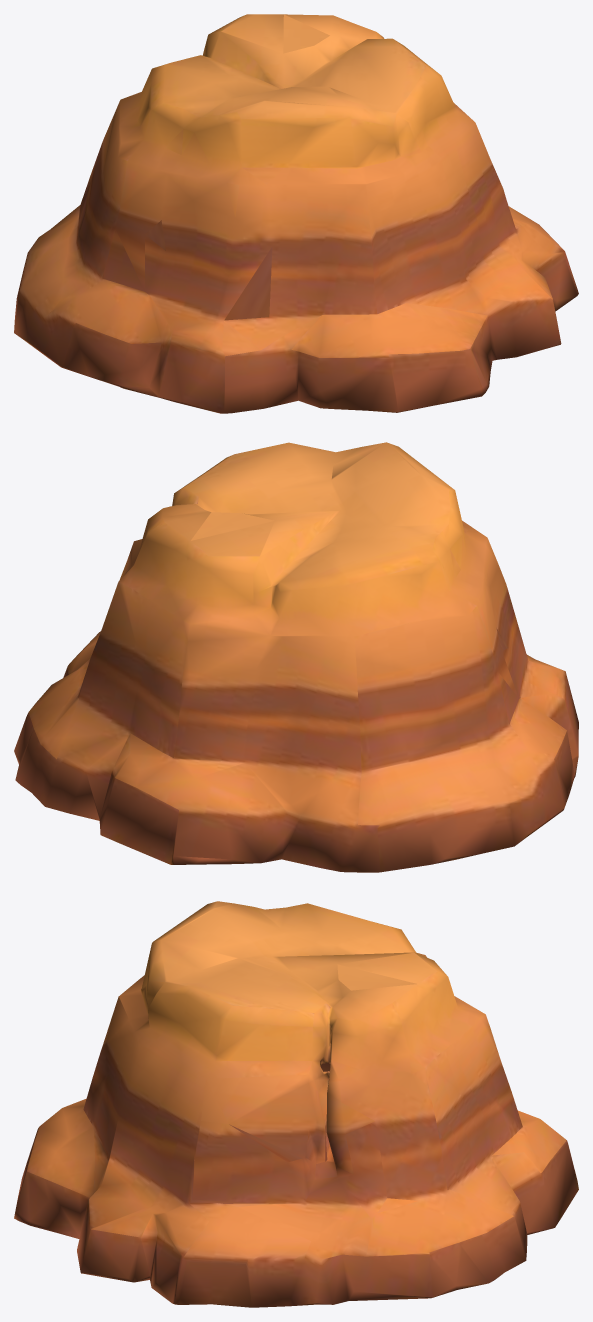
File: lg-desert-mesa.glb
3 views of the same model, one above another, from view 1: azimuth 30°, elevation 25°; view 2: azimuth 150°, elevation 25°; view 3: azimuth 270°, elevation 25° (orthographic). The views are drawn at different scales.
Visible parts, largest first — view 1: geometry_0; view 2: geometry_0; view 3: geometry_0.
Boxes of the visible parts, x1=… form: geometry_0: x1=14, y1=14, x2=578, y2=413; geometry_0: x1=14, y1=442, x2=578, y2=872; geometry_0: x1=14, y1=901, x2=578, y2=1307.
Bounding box in the file's own units: 0.9656 × 0.494 × 1.
Materials: 1 (1 with a texture image).
